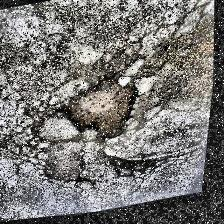pothole: (58, 74, 150, 150)
